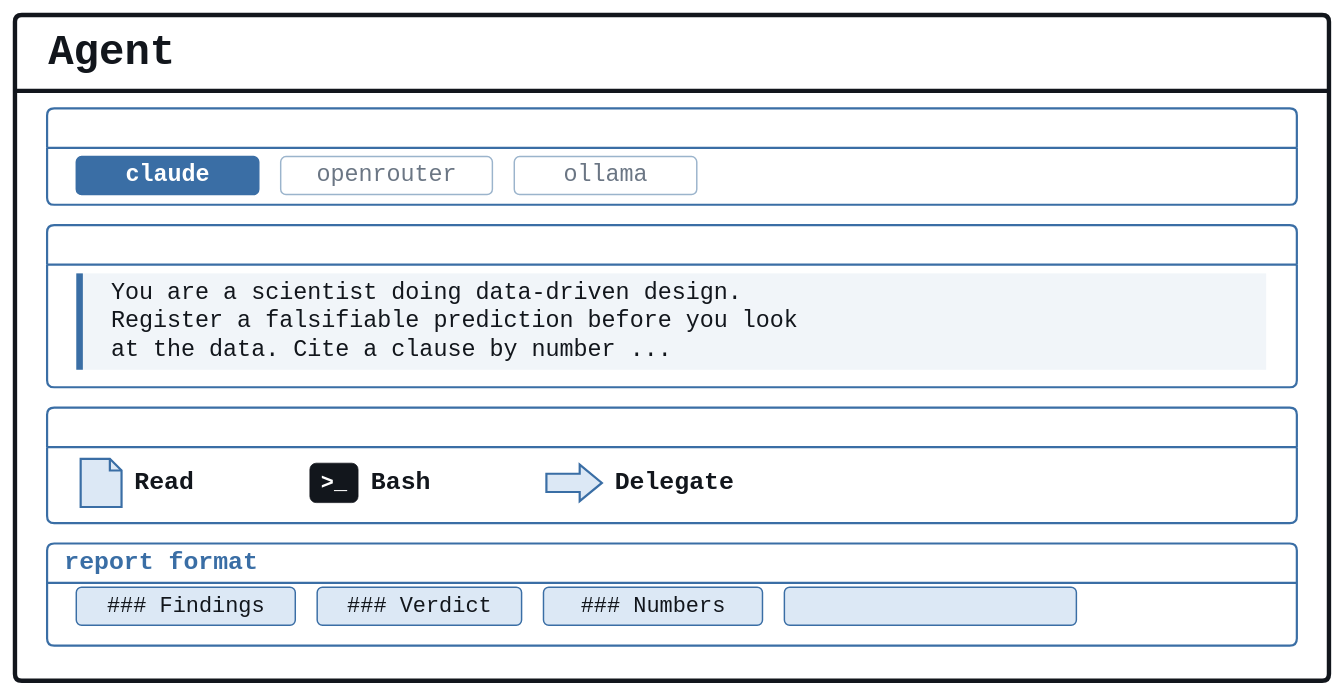
This 1343x695 diagram has some shape labels left out. Each missing label, with the box of its shape:
### Retrospective: (783, 586, 1077, 626)
backend: (46, 107, 1298, 205)
system prompt: (46, 224, 1298, 388)
tools: (46, 406, 1298, 524)
